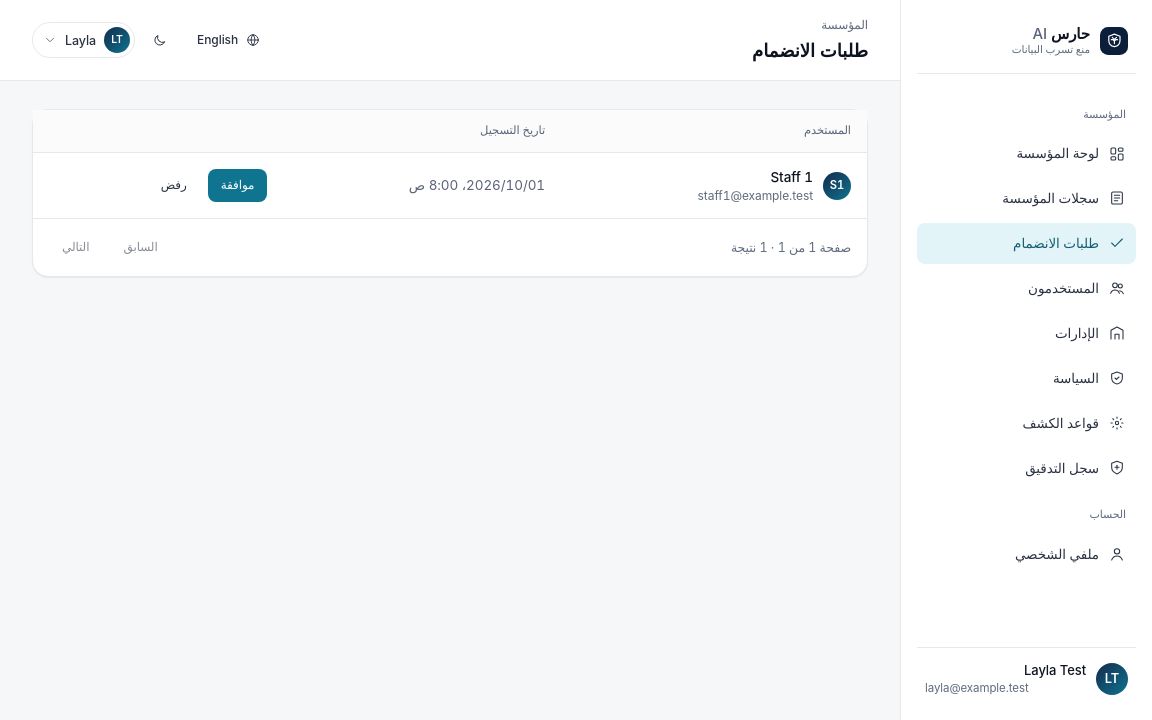
Scenario: pending approvals › approving needs a department, then sends department and role
Step 1. Click the button with aria-label "الموافقة على Staff 1" → (238, 186), box [208,170,267,202]
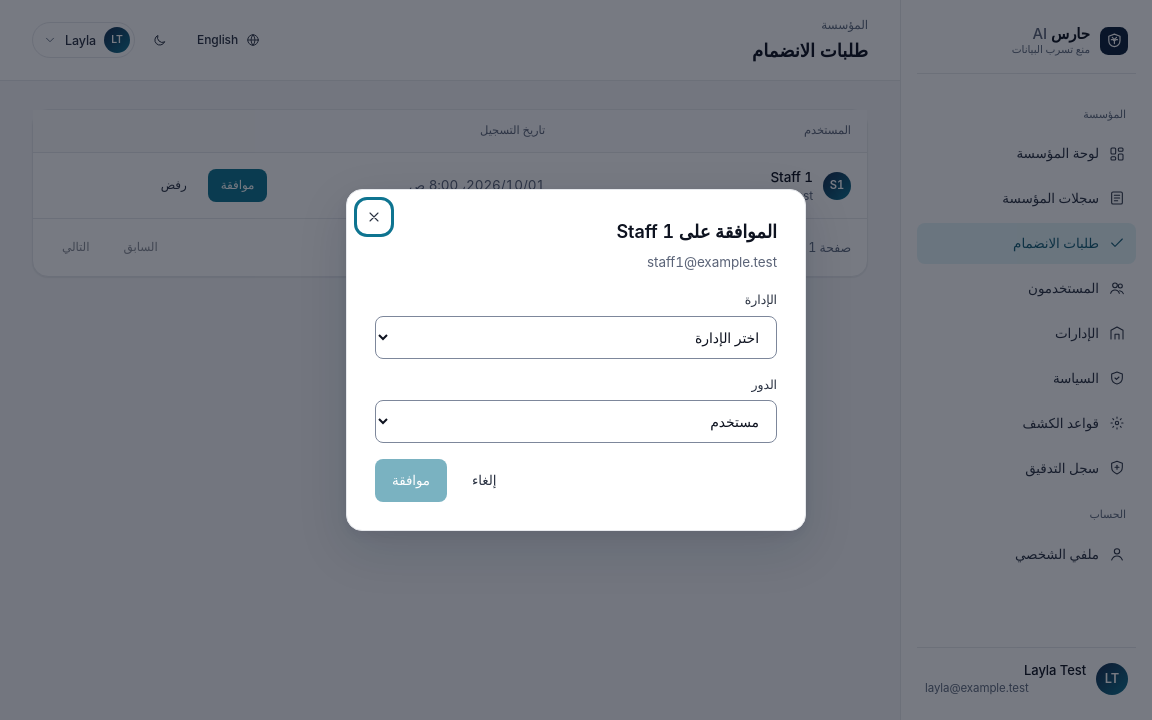
Check: the button "موافقة" is disabled, box [375,459,447,502]
Step 2. Select "Legal" in the dropdown labelled "الإدارة" → (576, 337), box [375,316,777,358]
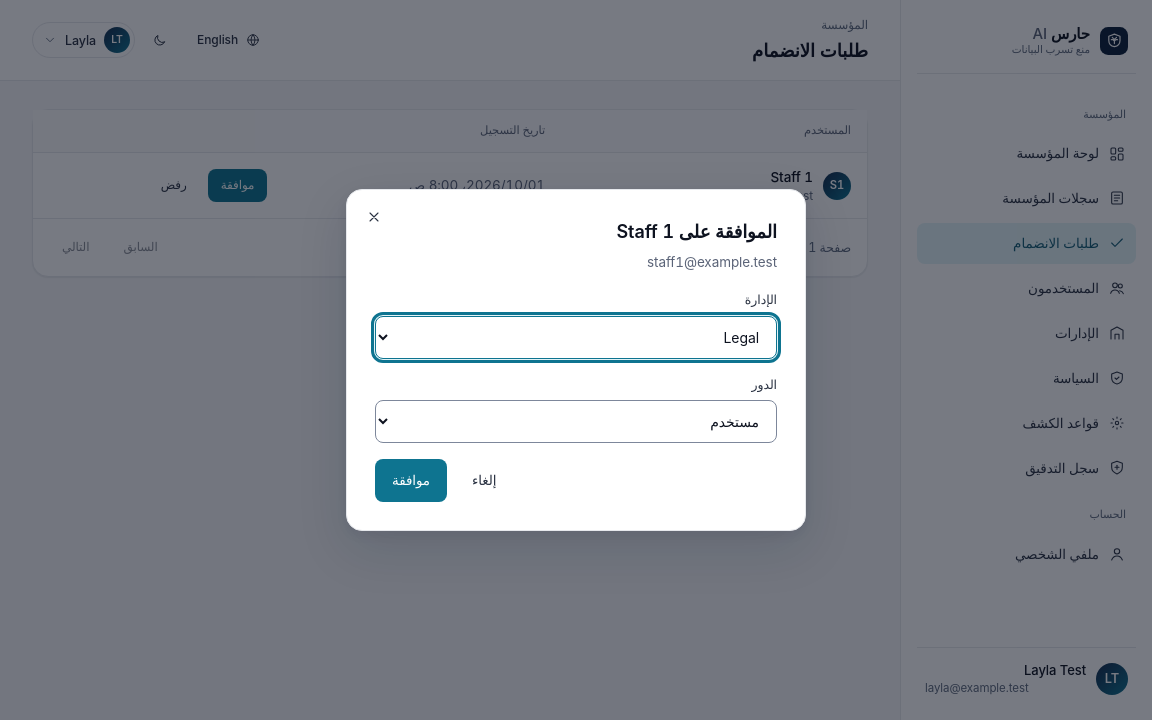
Step 3. Select "مدير إدارة" in the dropdown labelled "الدور" → (576, 421), box [375,400,777,443]
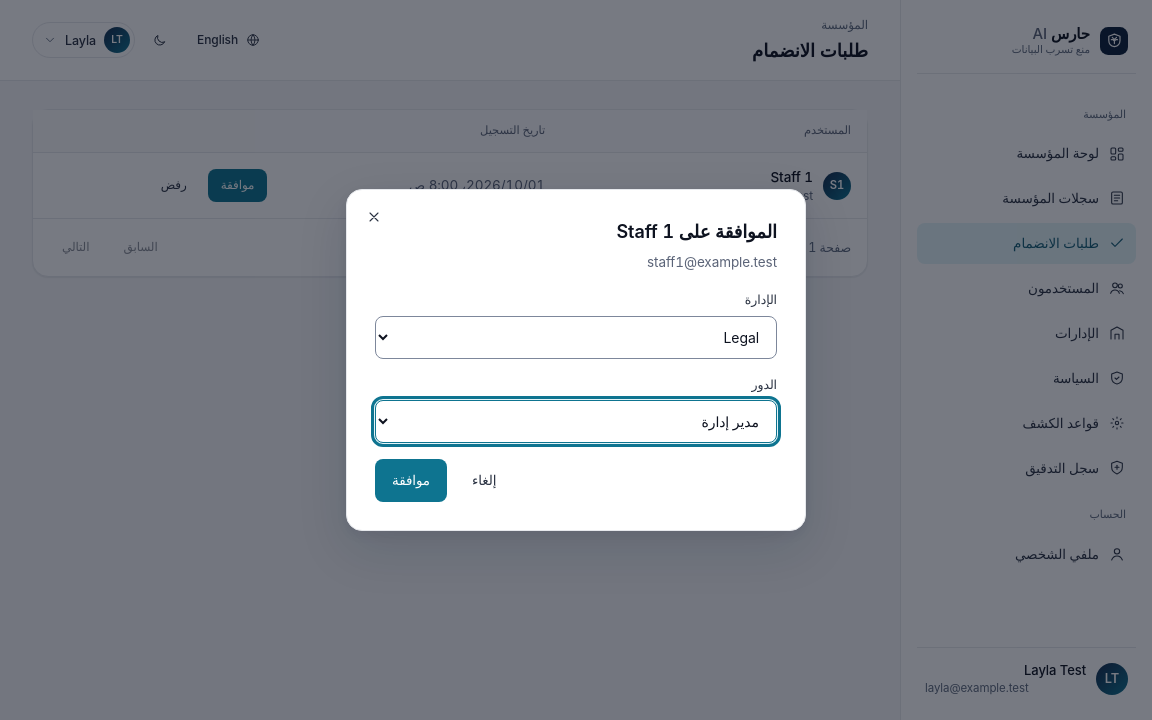
Step 4. Click the button "موافقة" → (411, 480), box [375,459,447,502]
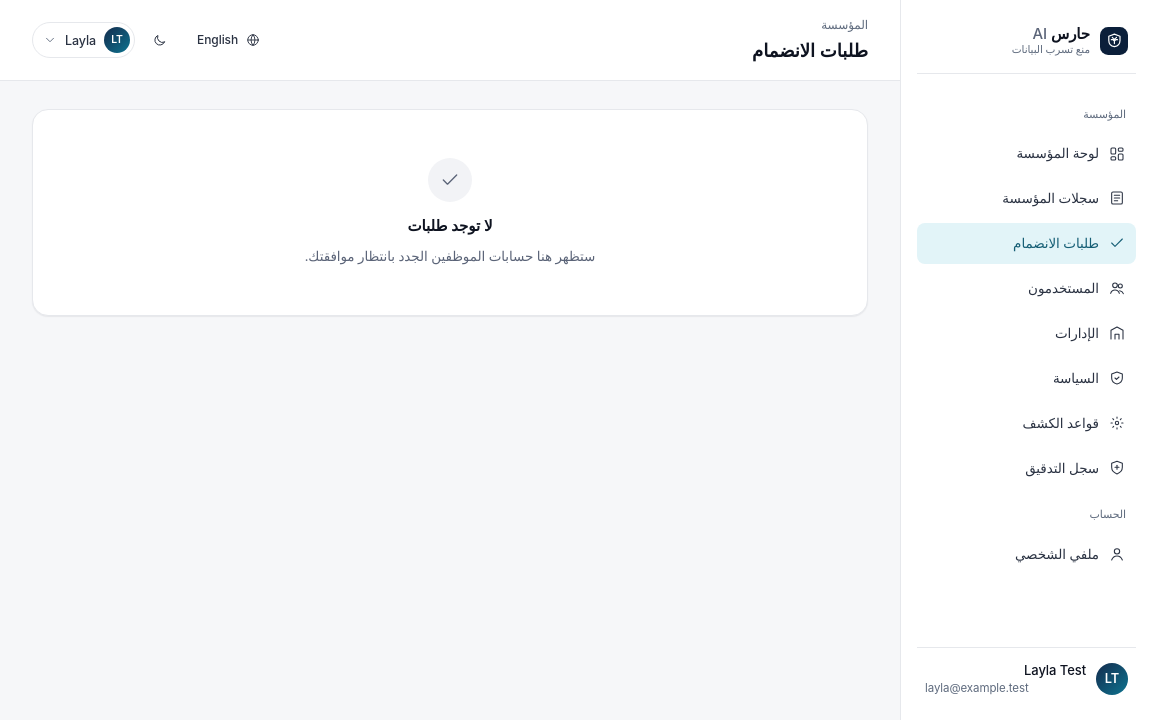
Check: the text "لا توجد طلبات" is shown, box [408,214,492,238]
